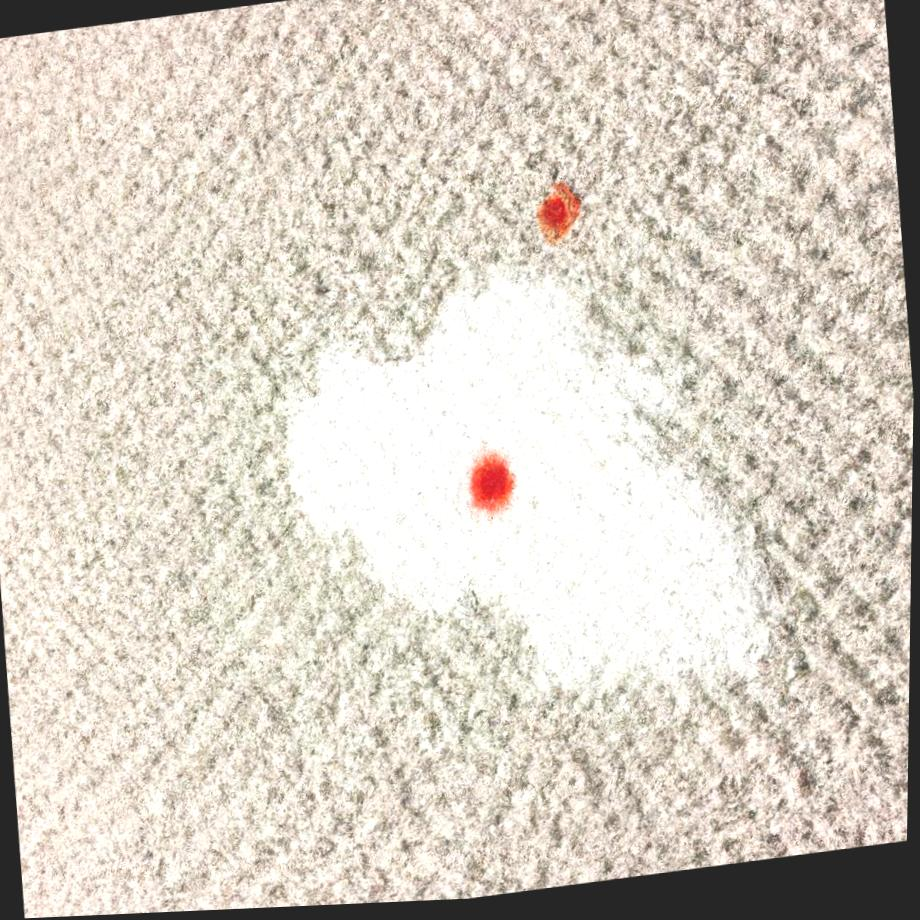Fire: (471, 455, 517, 517), (536, 188, 582, 249)
